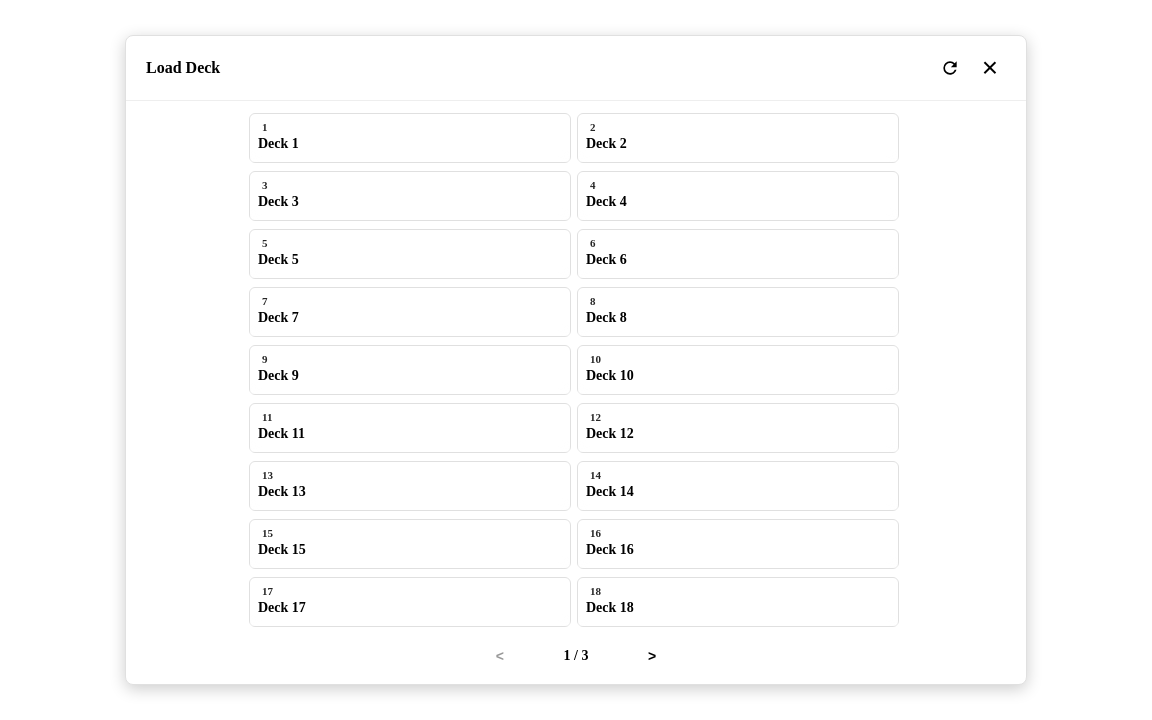
Scenario: LoadDialog.vue › ページネーション › 「次のページ」ボタンでページが移動する
Expected: the text "1 / 3" is shown, [564,648,588,663]
Click the button ">" at (652, 656), box [632,640,672,672]
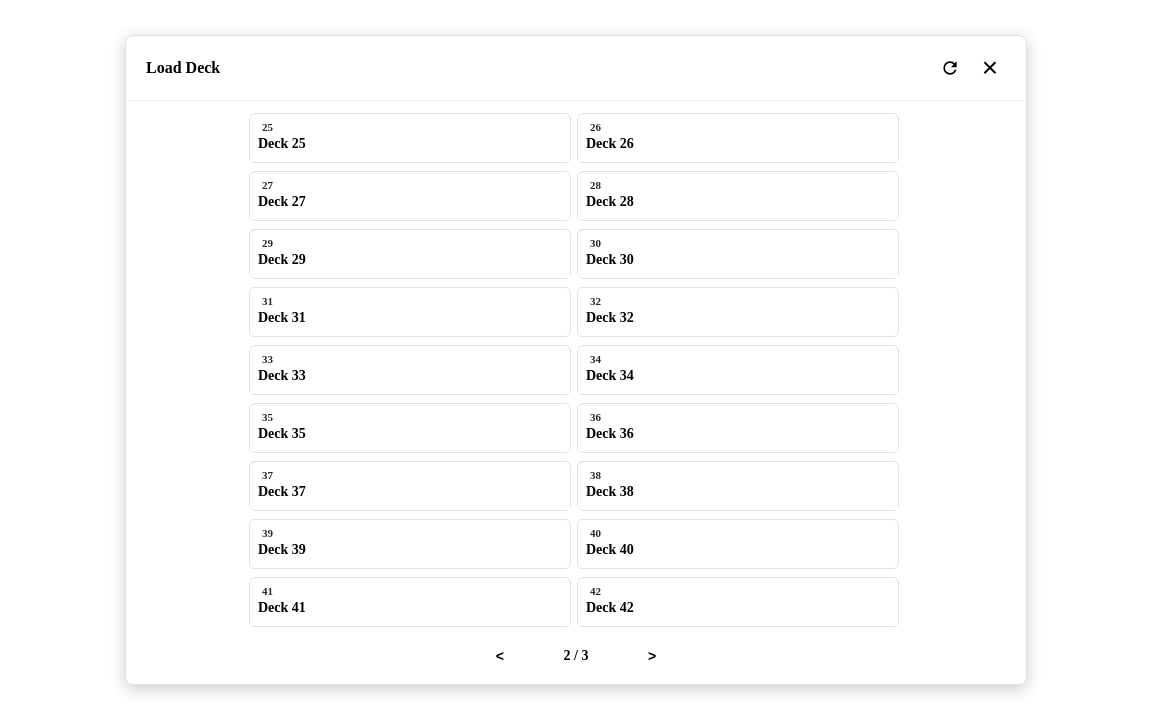
Expected: the text "2 / 3" is shown, [564,648,588,663]
